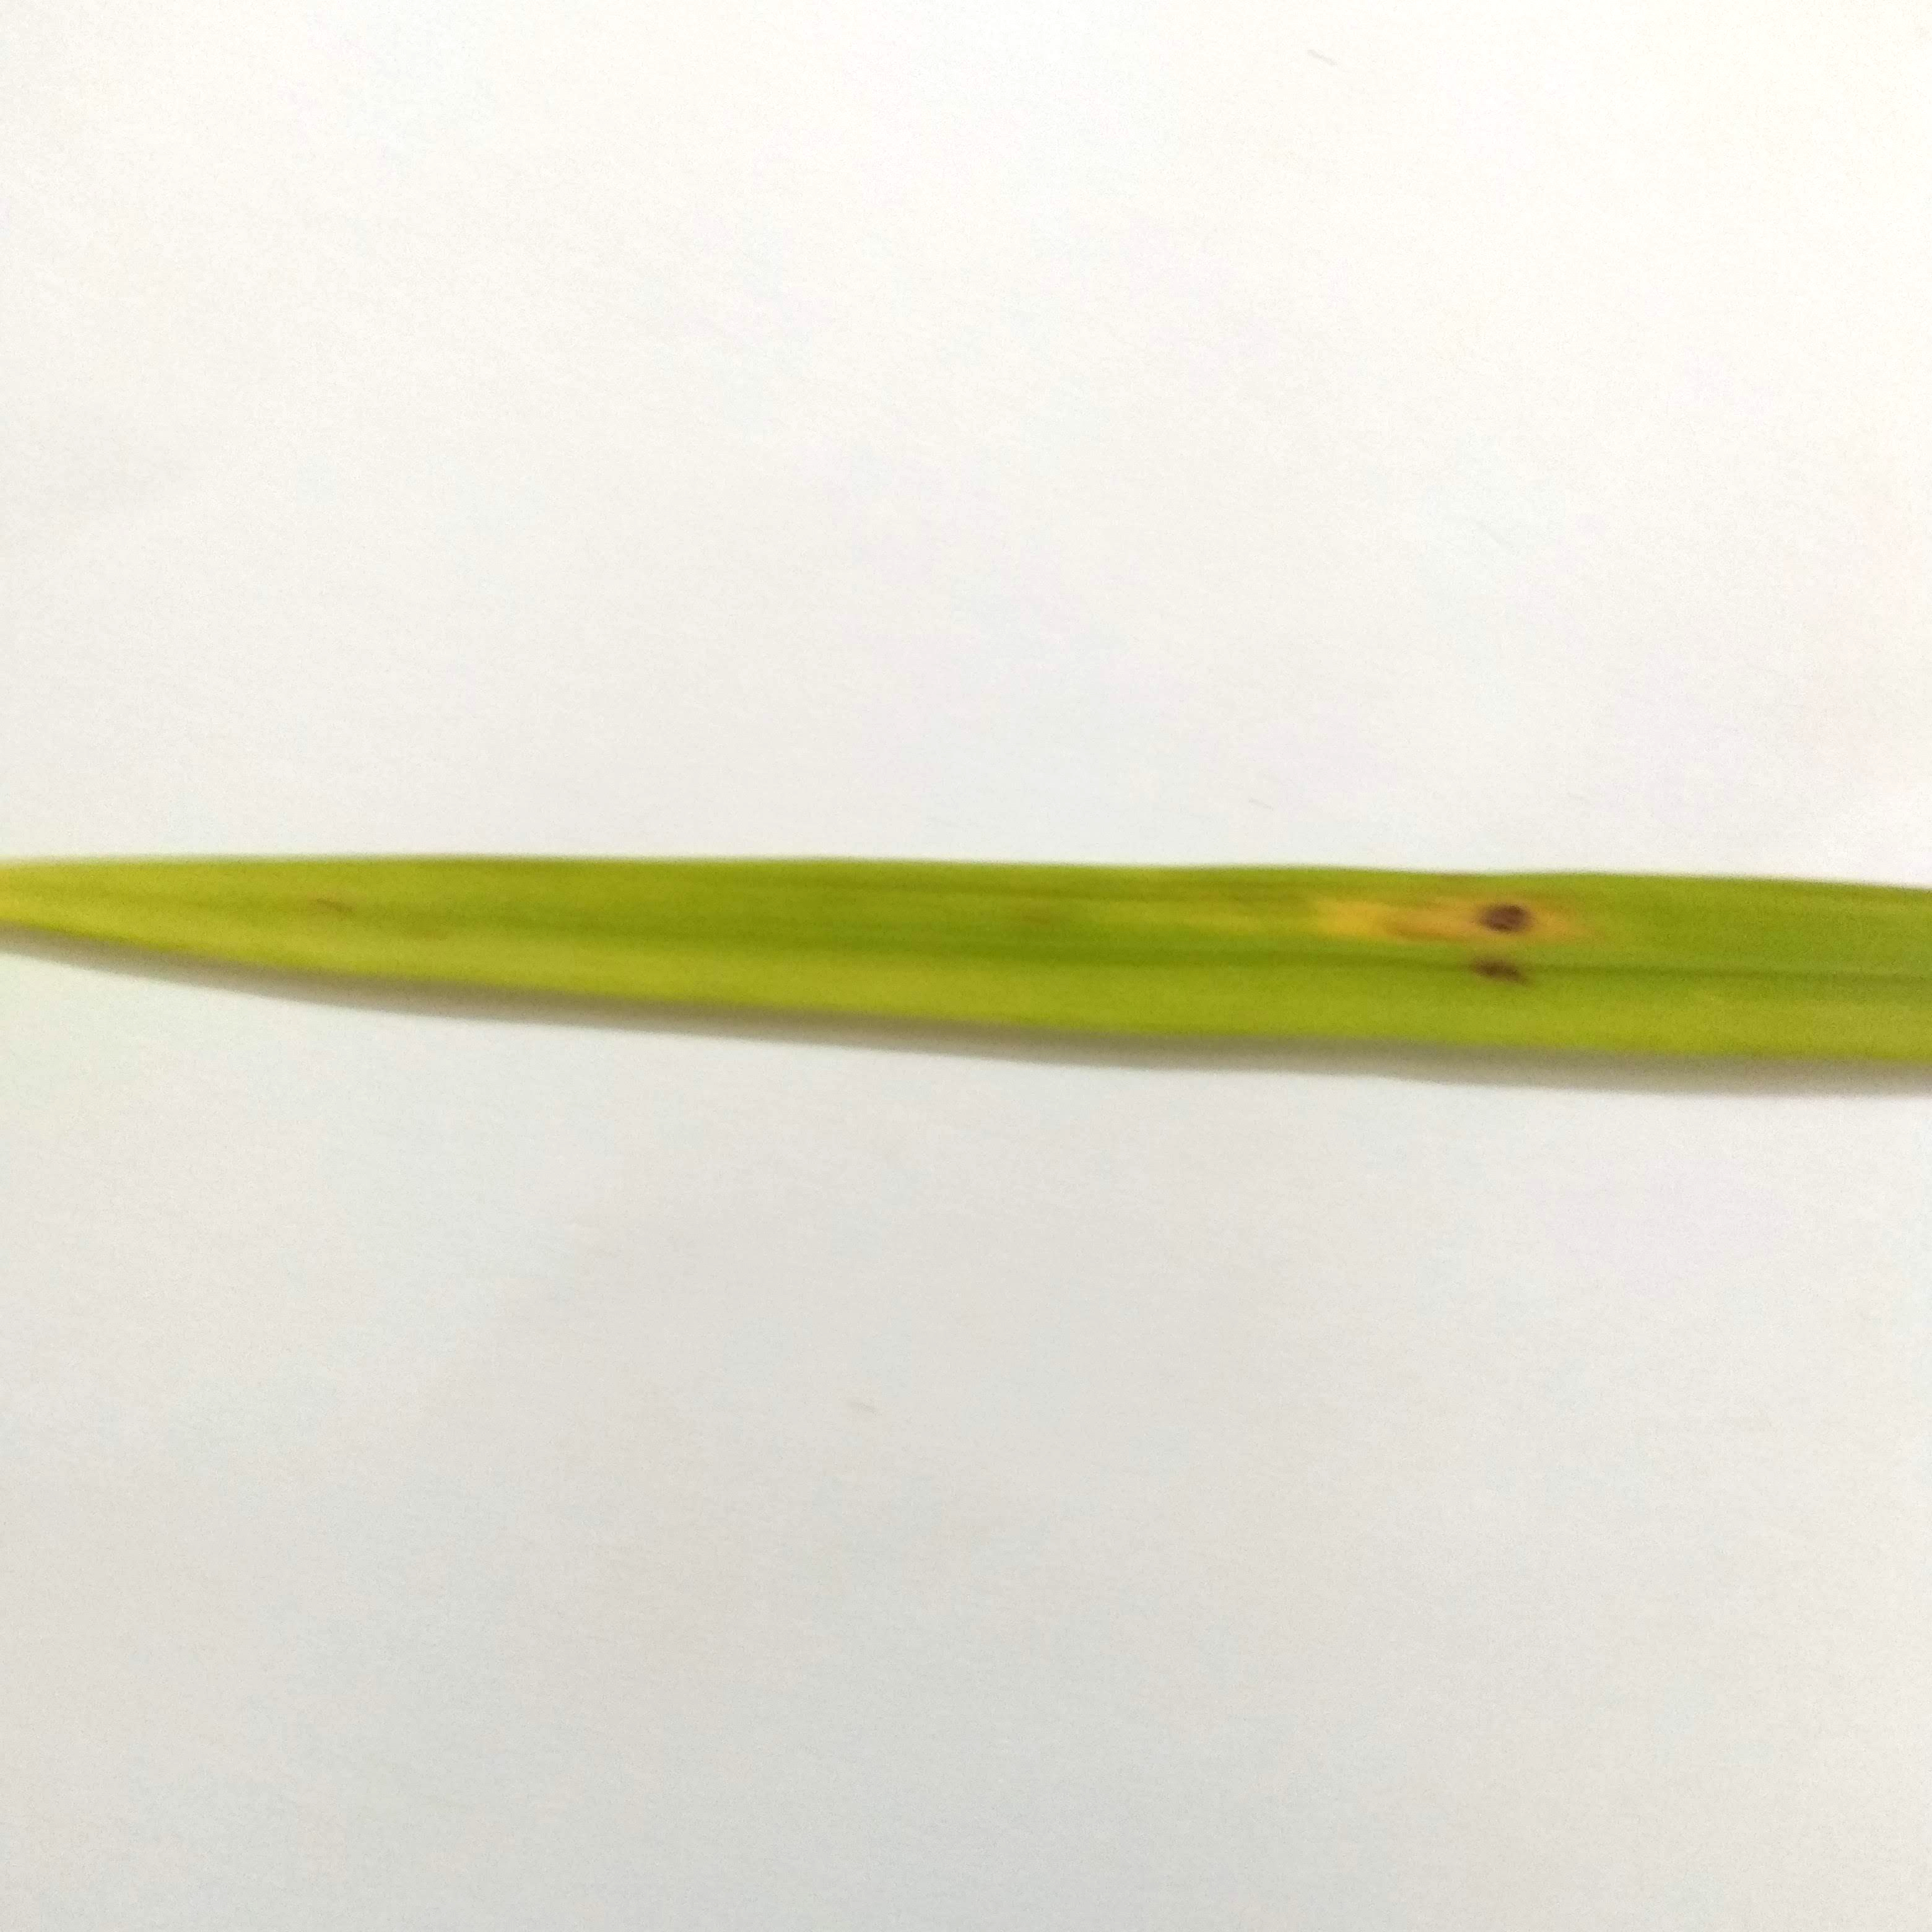brown spot: (1355, 878, 1598, 948), (1449, 945, 1546, 998)
